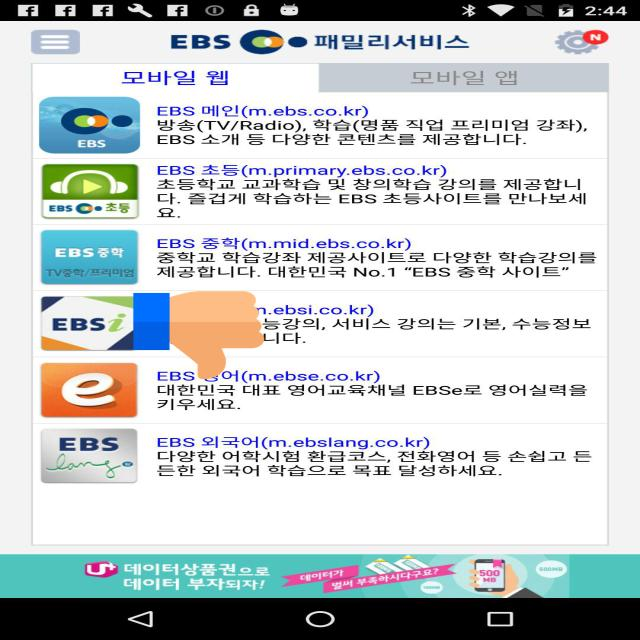obstruction: (133, 289, 264, 381)
